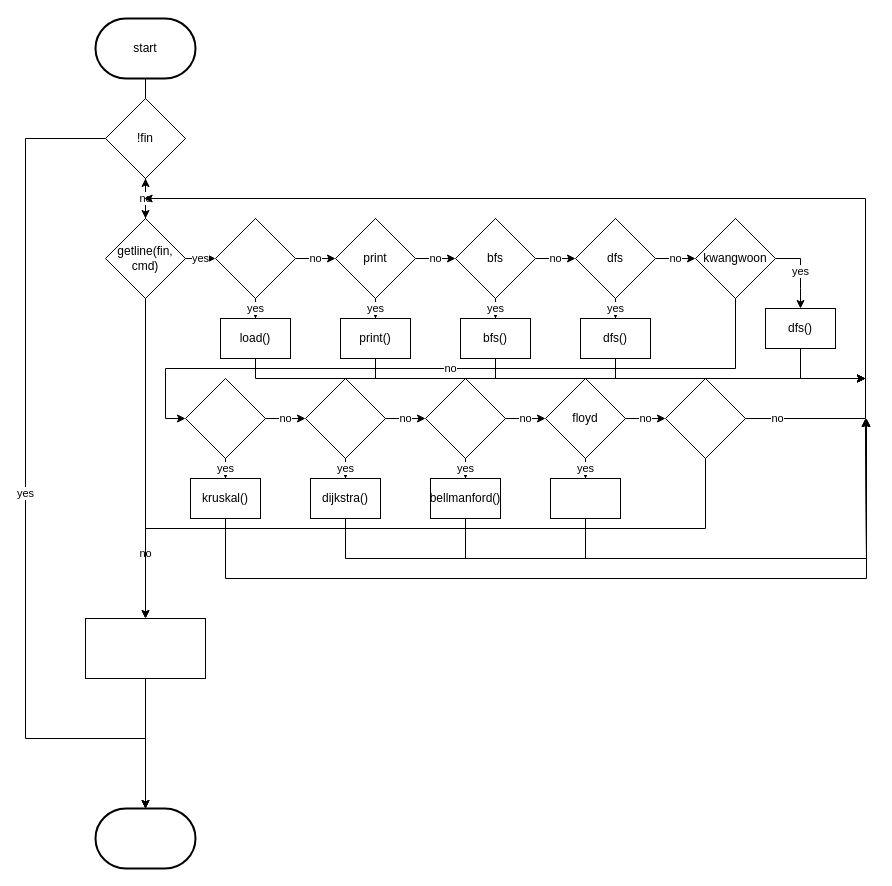
Image size: 892x886. Some labels were removed from this diagram. The centre of each missing label's shape, as x and y in pixels:
"bellmanford" goes at (465,418).
"dijkstra" goes at (345,418).
"end" goes at (145,838).
"exit" goes at (705,418).
"fin close" goes at (145,648).
"floyd()" goes at (585,498).
"kruskal" goes at (225,418).
"load" goes at (255,258).
